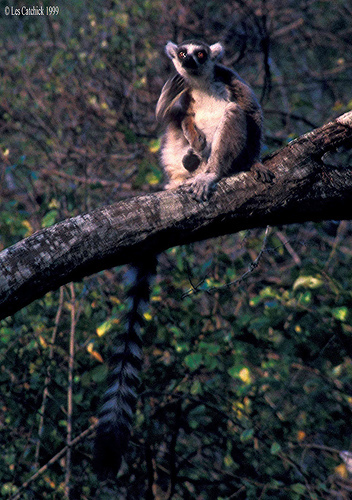cat: (91, 42, 264, 467)
